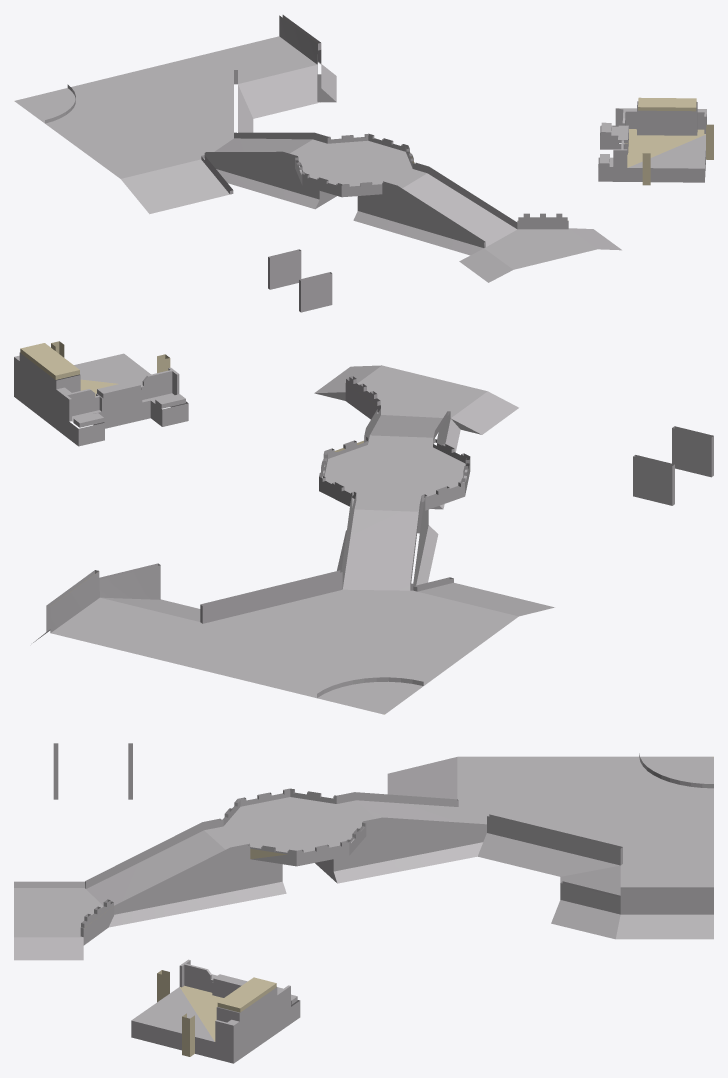
The model's file is map4collider.obj.
3 renders of one model, top to bottom at view 1: azimuth 30°, elevation 25°; view 2: azimuth 150°, elevation 25°; view 3: azimuth 270°, elevation 25°, orthographic. The views are drawn at different scales.
Visible parts, largest first — view 1: ballast; view 2: ballast; view 3: ballast.
Part boxes in pixels (x1=…): ballast: x1=14, y1=15, x2=713, y2=312; ballast: x1=14, y1=341, x2=713, y2=714; ballast: x1=14, y1=743, x2=713, y2=1063.
Bounding box in the file's own units: 147 × 12.1 × 150.
2 materials, 2 textured.
